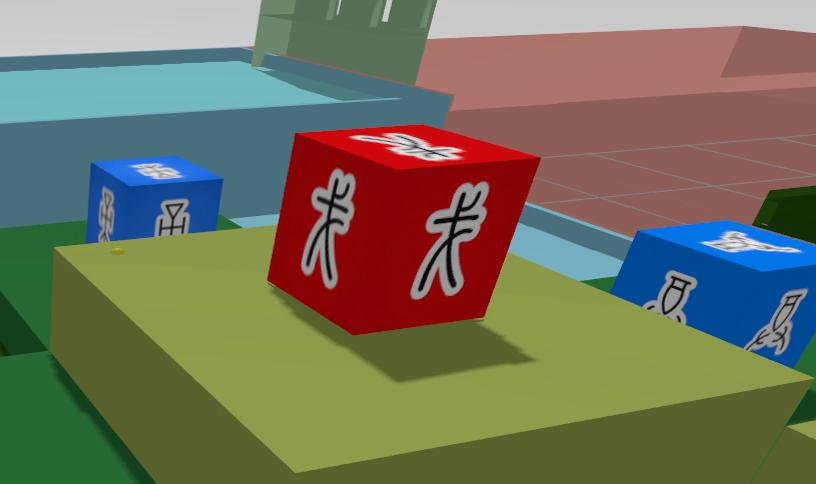KFS_FAKE: (268, 124, 539, 334), (411, 184, 488, 298), (301, 169, 354, 288), (353, 132, 461, 160)
KFS_REAL: (610, 221, 815, 365), (84, 156, 222, 242)
